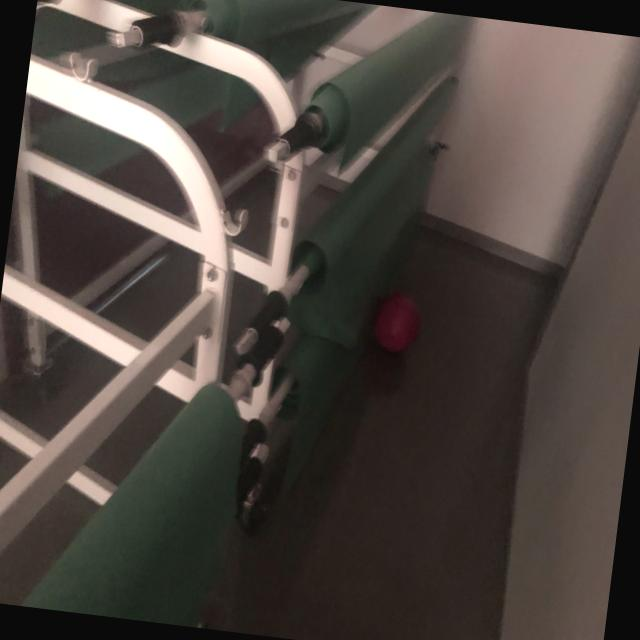red_ball: (370, 288, 422, 356)
